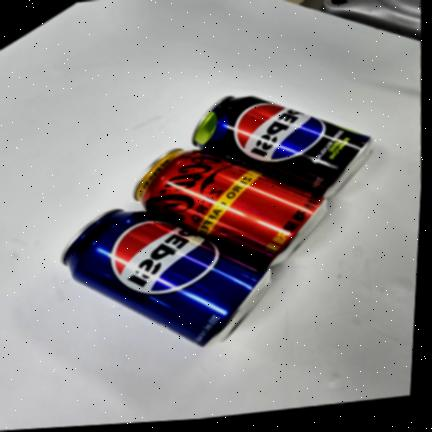can_coke_decaf: (134, 148, 327, 266)
can_pepsi: (61, 209, 270, 347)
can_pepsi_zero: (192, 96, 372, 198)
